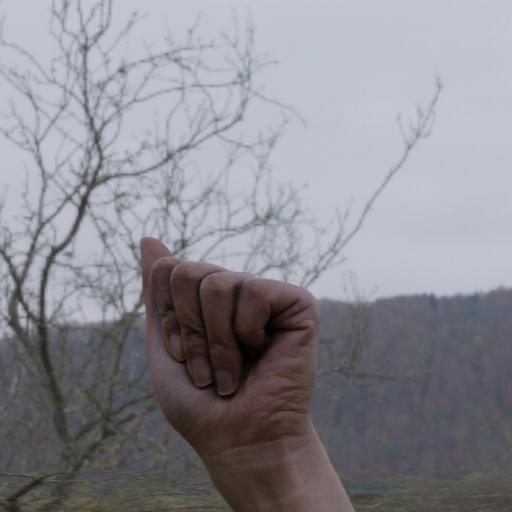A: (126, 230, 334, 467)
